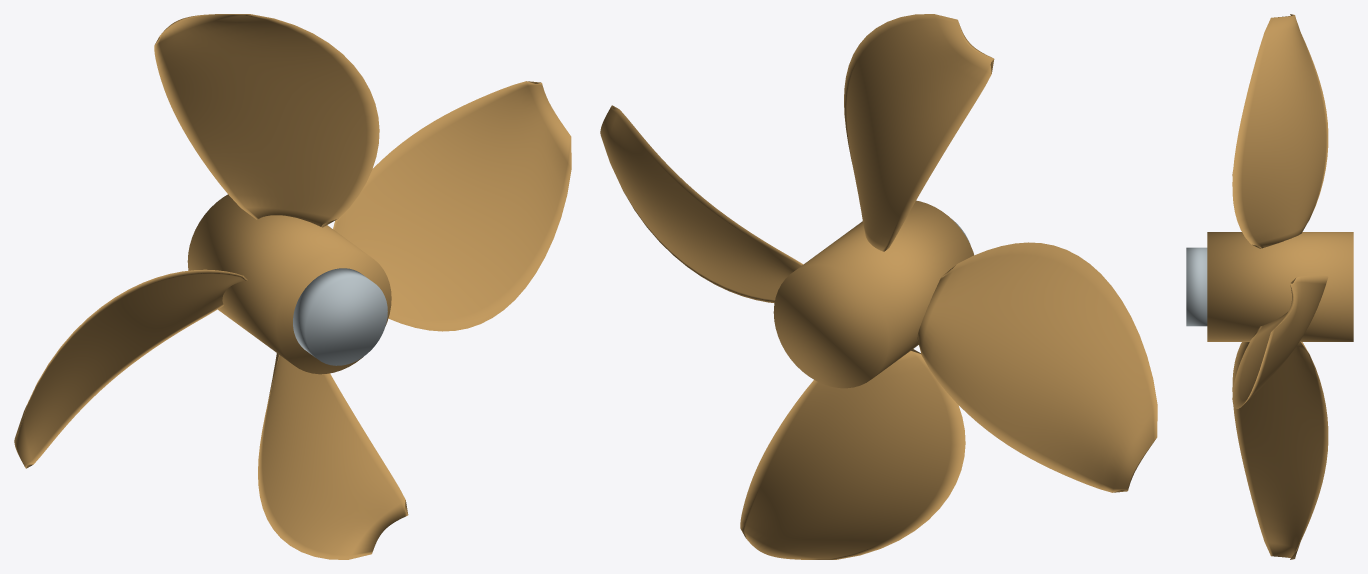
File: ferry_propeller_1450.glb
3 renders of one model, left to right at view 1: azimuth 30°, elevation 25°; view 2: azimuth 150°, elevation 25°; view 3: azimuth 270°, elevation 25°, orthographic. The views are drawn at different scales.
Parts seen in each view (by area): view 1: ferry_propeller_1450__Fixed_PropellerBronze, ferry_propeller_1450__Fixed_ShaftStainless; view 2: ferry_propeller_1450__Fixed_PropellerBronze; view 3: ferry_propeller_1450__Fixed_PropellerBronze, ferry_propeller_1450__Fixed_ShaftStainless.
Boxes of the visible parts, x1,y1,x2,y2 form: ferry_propeller_1450__Fixed_PropellerBronze: (14,14,571,559); ferry_propeller_1450__Fixed_ShaftStainless: (293,268,387,365); ferry_propeller_1450__Fixed_PropellerBronze: (600,14,1157,559); ferry_propeller_1450__Fixed_PropellerBronze: (1207,14,1353,559); ferry_propeller_1450__Fixed_ShaftStainless: (1186,247,1207,326).
Size of the model in its own units: 1.4 by 1.4 by 0.4462.
